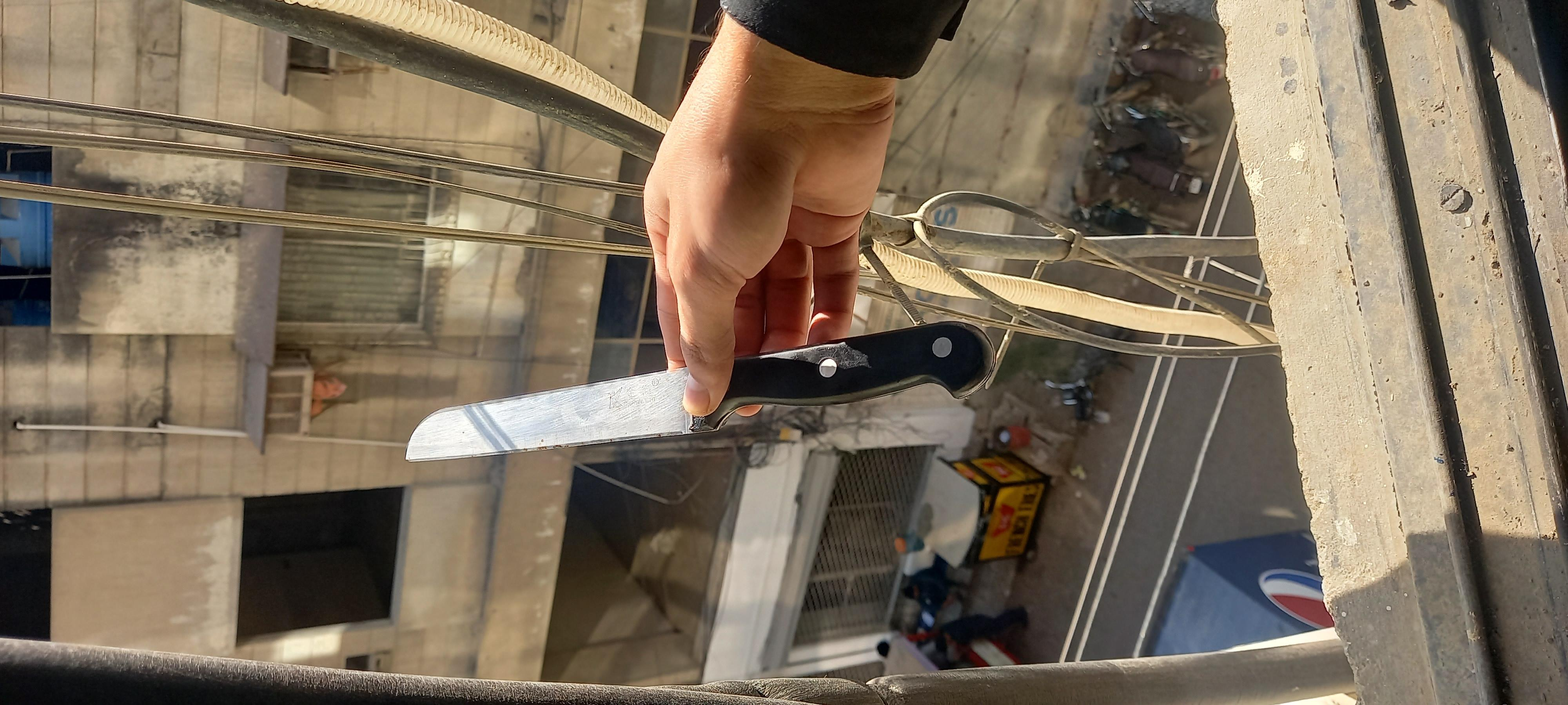knives: (515, 178, 897, 449)
